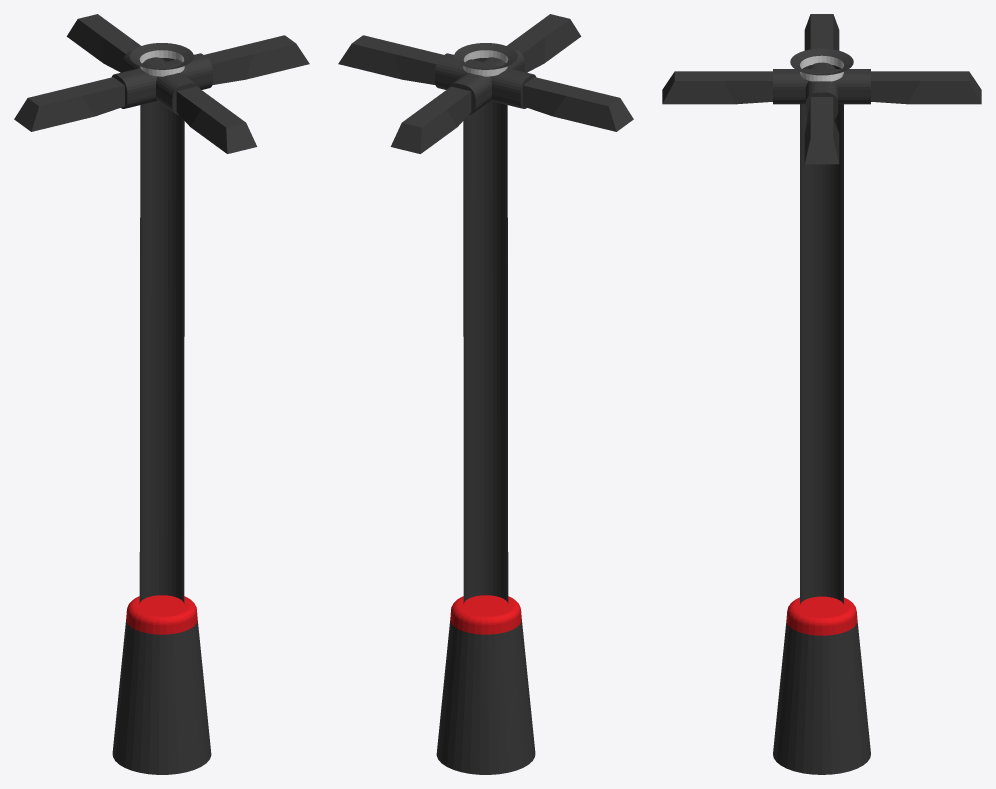
Rendered from flashlight.fbx.
3 renders of one model, left to right at view 1: azimuth 30°, elevation 25°; view 2: azimuth 150°, elevation 25°; view 3: azimuth 270°, elevation 25°, orthographic.
Visible parts, largest first — view 1: Cylinder; view 2: Cylinder; view 3: Cylinder.
Part boxes in pixels (left/top/right/bottom): Cylinder: left=14, top=14, right=309, bottom=774; Cylinder: left=338, top=14, right=633, bottom=774; Cylinder: left=662, top=14, right=981, bottom=774.
Bounding box in the file's own units: 195 × 467 × 195.
